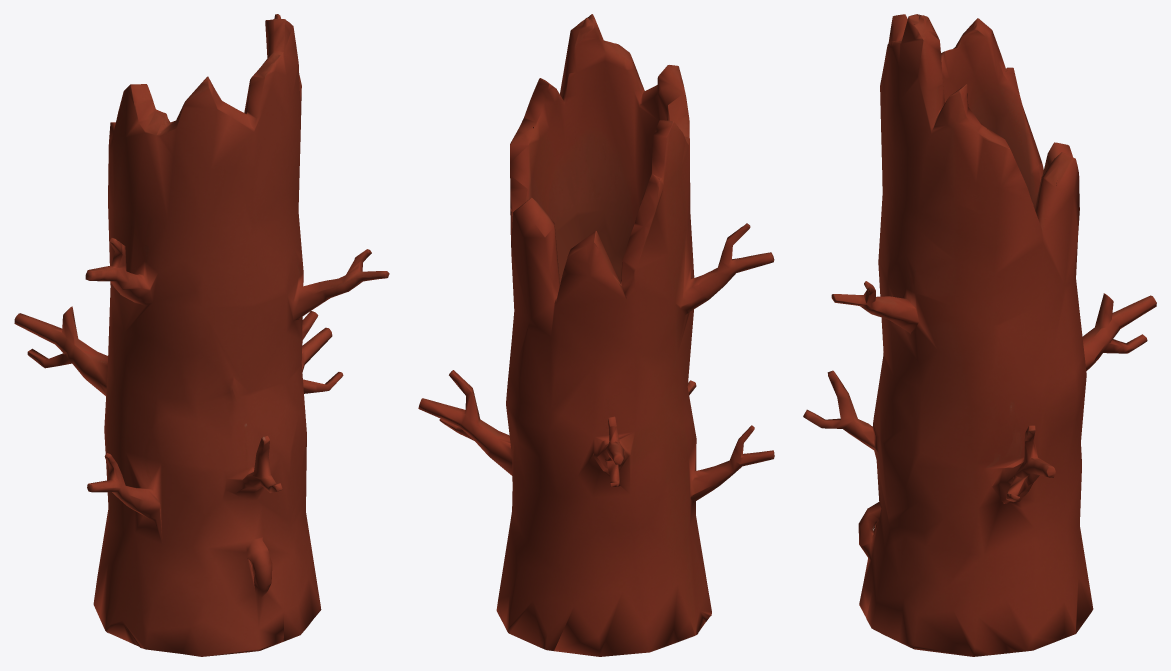
Rendered from Meshy_AI_Crimson_Hollow_Trunk_0811081732_texture.glb.
The picture shows the model from 3 angles, left to right: view 1: azimuth 30°, elevation 25°; view 2: azimuth 150°, elevation 25°; view 3: azimuth 270°, elevation 25°; orthographic projection. The views are drawn at different scales.
Visible parts, largest first — view 1: Mesh1.0; view 2: Mesh1.0; view 3: Mesh1.0.
Boxes of the visible parts, <box> form: Mesh1.0: <box>14,14,389,656</box>; Mesh1.0: <box>418,14,774,656</box>; Mesh1.0: <box>803,14,1156,656</box>.
Size of the model in its own units: 1.03 by 1.9 by 0.9922.
Materials: 1 (1 with a texture image).
